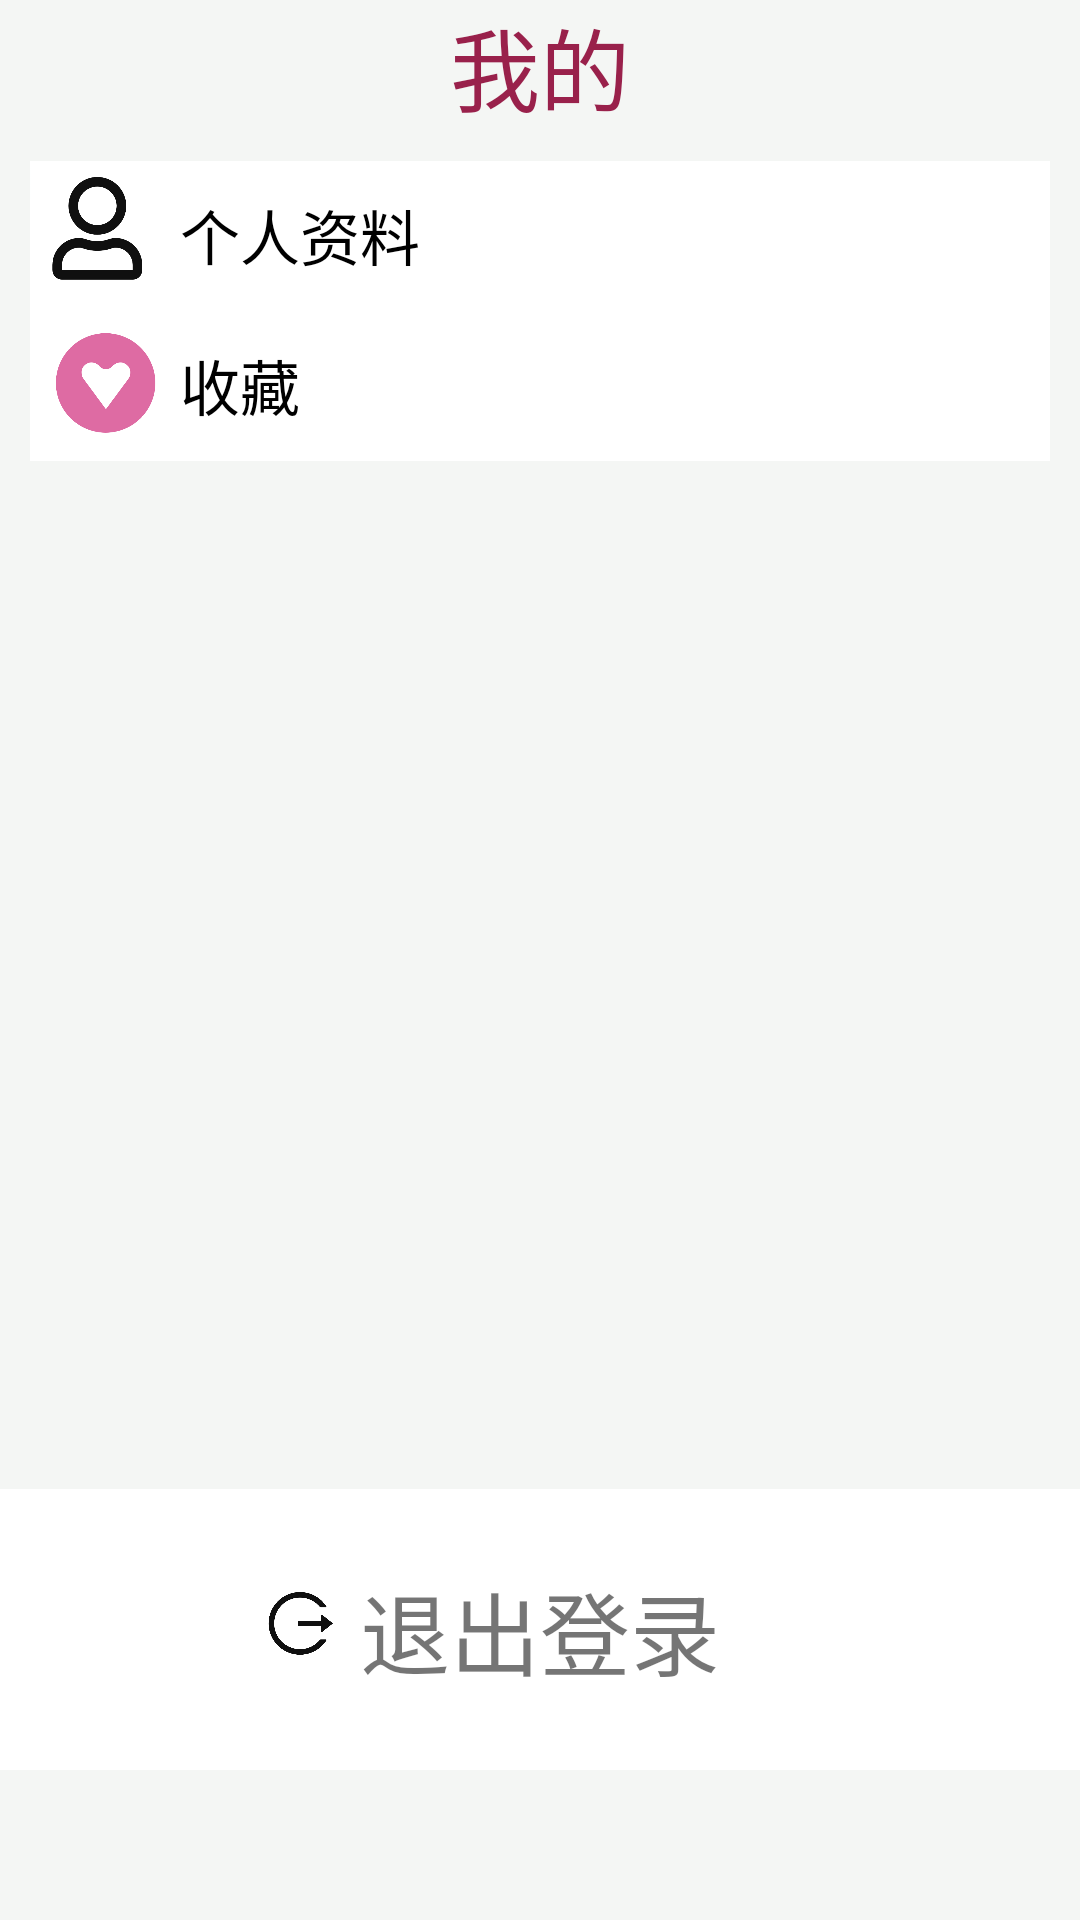

Point at icon controls on the screen. Image size 1080 × 1920, points as (x=x, y=y).
like: (x=105, y=383)
